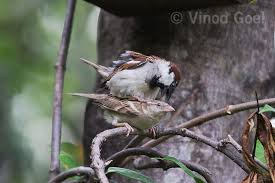hsparrow: (72, 45, 184, 106), (62, 89, 179, 138)
